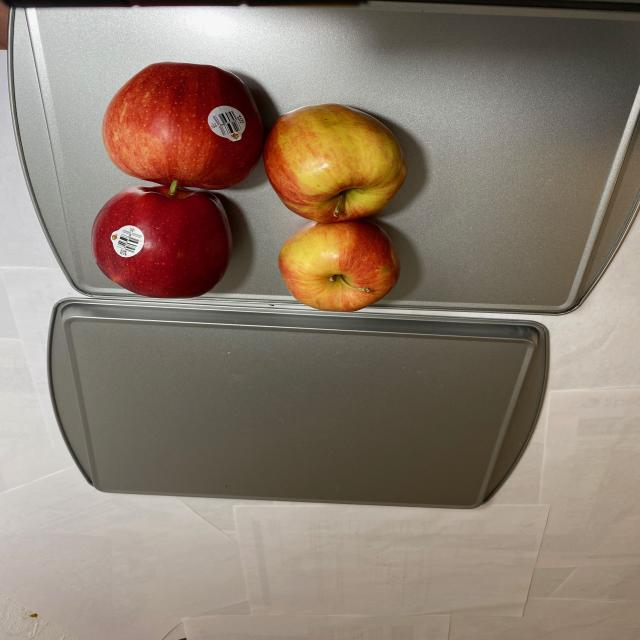apple: (89, 62, 408, 311)
